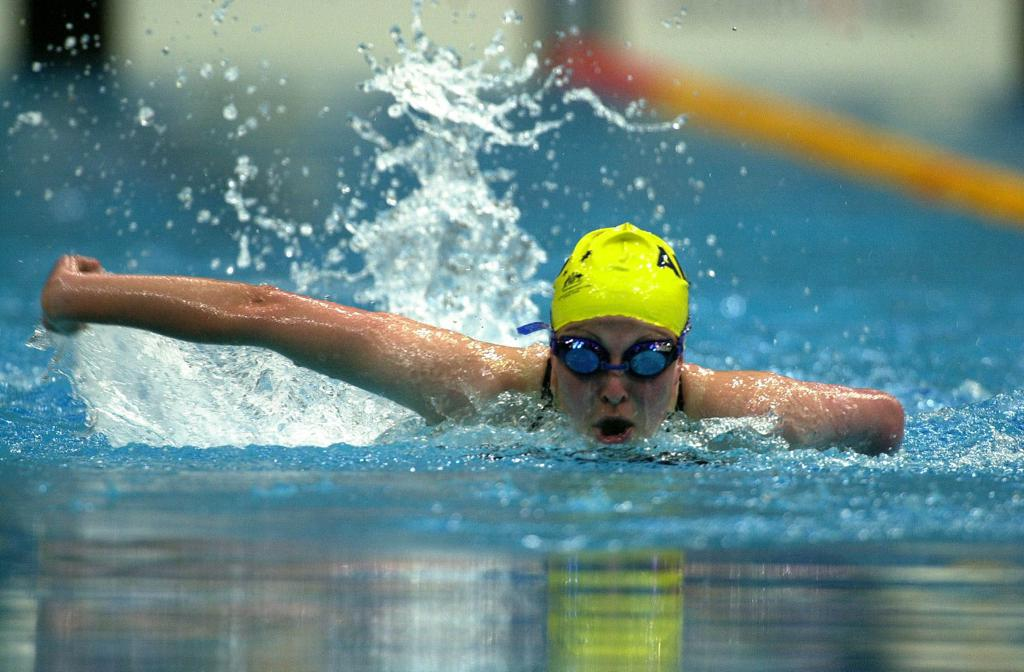face: (551, 313, 677, 453)
